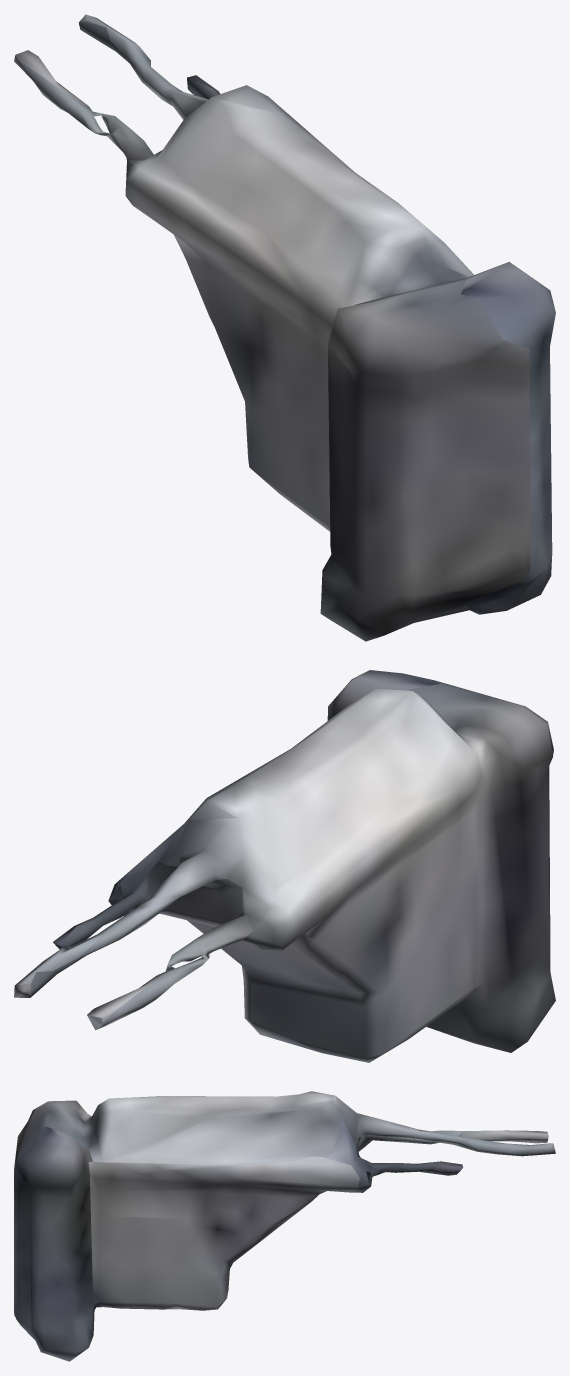
Rendered from freighter_part_0.glb.
3 views of the same model, one above another, from view 1: azimuth 30°, elevation 25°; view 2: azimuth 150°, elevation 25°; view 3: azimuth 270°, elevation 25° (orthographic). The views are drawn at different scales.
Parts seen in each view (by area): view 1: part0; view 2: part0; view 3: part0.
Part boxes in pixels (x1=…): part0: x1=14, y1=14, x2=555, y2=641; part0: x1=14, y1=670, x2=555, y2=1062; part0: x1=14, y1=1091, x2=555, y2=1361.
Size of the model in its own units: 0.0294 by 0.0507 by 0.1021.
1 material, 1 textured.
